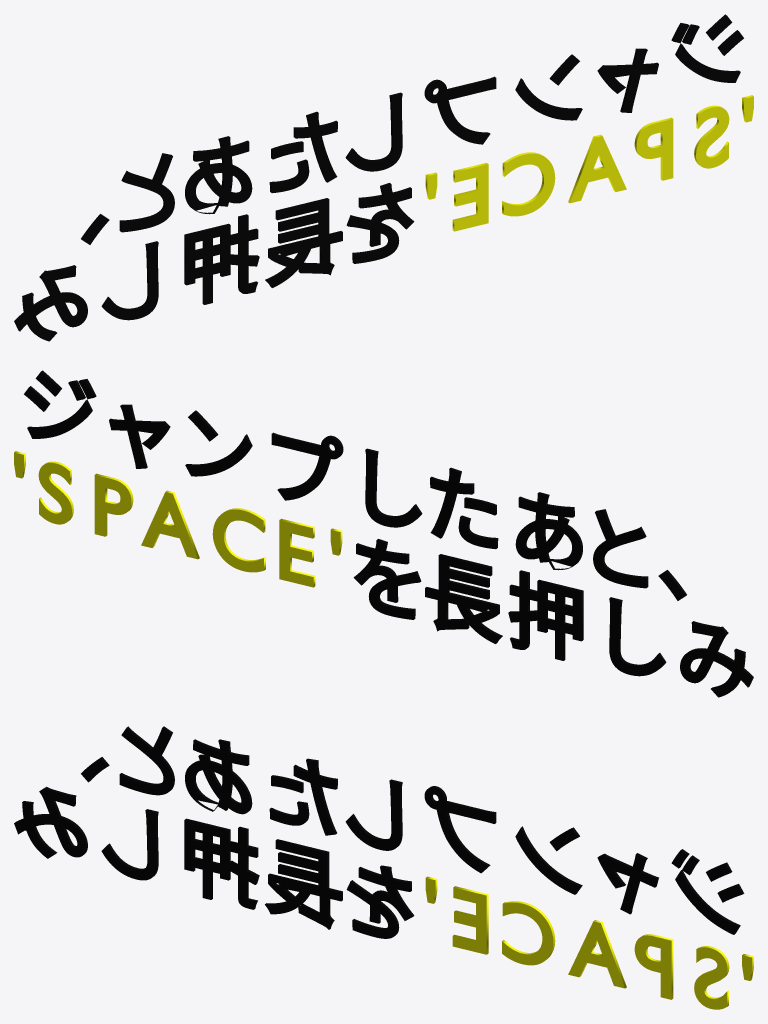
Rendered from paratext2.obj.
3 renders of one model, top to bottom at view 1: azimuth 30°, elevation 25°; view 2: azimuth 150°, elevation 25°; view 3: azimuth 330°, elevation 25°, orthographic.
Visible parts, largest first — view 1: Text.017, Text.018, Text.006, Text.016, Text.020, Text.005, Text, Text.003, Text.007, Text.013, Text.011, Text.012 (+6 smaller); view 2: Text.017, Text.018, Text.006, Text.016, Text.020, Text.005, Text, Text.003, Text.007, Text.013, Text.011, Text.012 (+6 smaller); view 3: Text.017, Text.018, Text.006, Text.016, Text.020, Text.005, Text.003, Text, Text.007, Text.013, Text.011, Text.012 (+6 smaller).
Boxes of the visible parts, bbox=[...] form: Text.017: bbox=[265, 198, 342, 287]; Text.018: bbox=[184, 214, 259, 304]; Text.006: bbox=[185, 136, 252, 214]; Text.016: bbox=[346, 183, 414, 263]; Text.020: bbox=[14, 265, 87, 341]; Text.005: bbox=[269, 111, 337, 193]; Text: bbox=[671, 14, 743, 82]; Text.003: bbox=[424, 76, 496, 144]; Text.007: bbox=[119, 153, 174, 232]; Text.013: bbox=[452, 162, 488, 231]; Text.011: bbox=[568, 134, 626, 203]; Text.012: bbox=[502, 152, 555, 216]; Text.017: bbox=[425, 554, 502, 643]; Text.018: bbox=[508, 570, 583, 660]; Text.006: bbox=[515, 492, 582, 570]; Text.016: bbox=[353, 539, 421, 619]; Text.020: bbox=[680, 621, 753, 697]; Text.005: bbox=[430, 467, 498, 549]; Text: bbox=[24, 370, 96, 438]; Text.003: bbox=[271, 432, 343, 500]; Text.007: bbox=[593, 509, 648, 588]; Text.013: bbox=[279, 518, 315, 587]; Text.011: bbox=[141, 490, 199, 559]; Text.012: bbox=[212, 508, 265, 572]; Text.017: bbox=[265, 839, 342, 929]; Text.018: bbox=[184, 818, 259, 909]; Text.006: bbox=[185, 739, 252, 814]; Text.016: bbox=[346, 865, 414, 938]; Text.020: bbox=[14, 786, 87, 858]; Text.005: bbox=[269, 758, 337, 835]; Text.003: bbox=[424, 786, 496, 873]; Text: bbox=[671, 849, 744, 934]; Text.007: bbox=[119, 726, 174, 795]; Text.013: bbox=[452, 886, 488, 954]; Text.011: bbox=[568, 920, 626, 988]; Text.012: bbox=[502, 901, 555, 965].
Size of the model in its own units: 9.42 by 2.05 by 0.04.
1 material, 1 textured.
